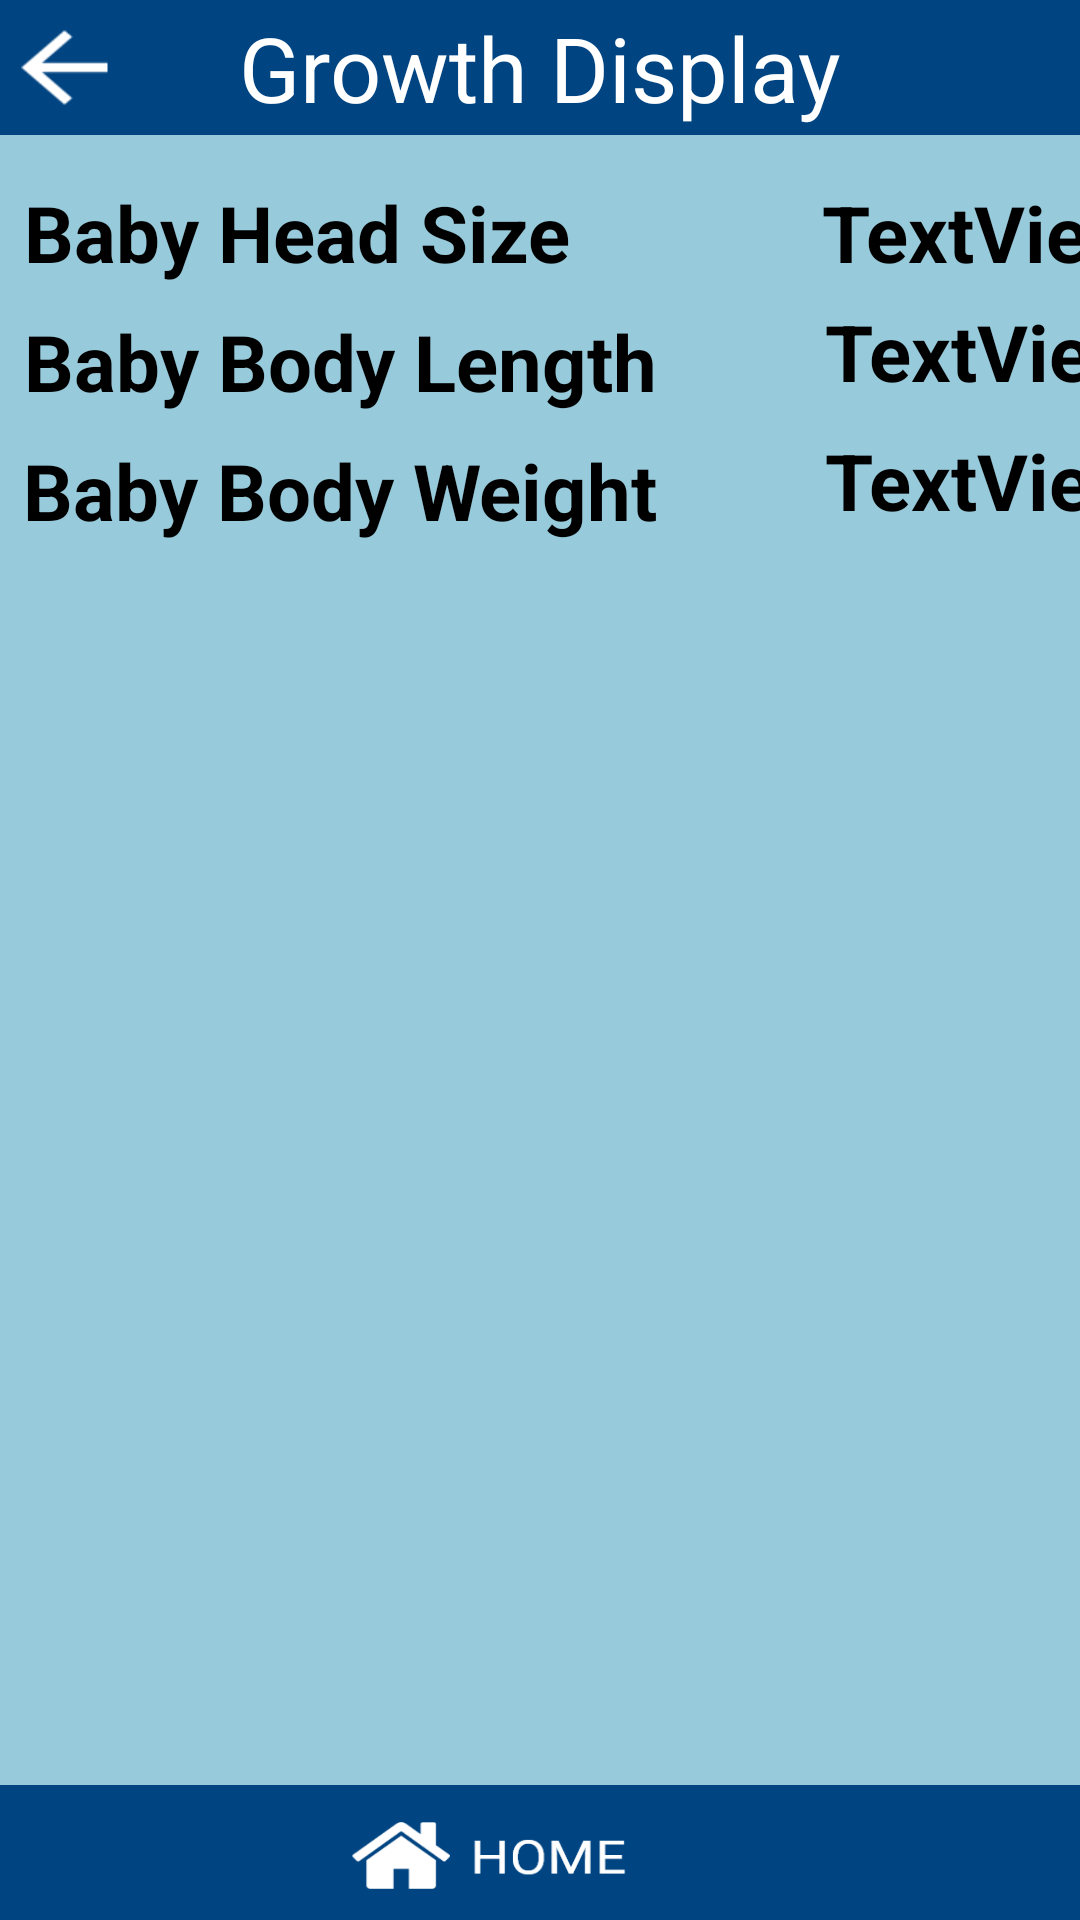

Icons on this 1080px×1920px Android screen, each with the point to tap as point (x, y):
back: point (64, 67)
